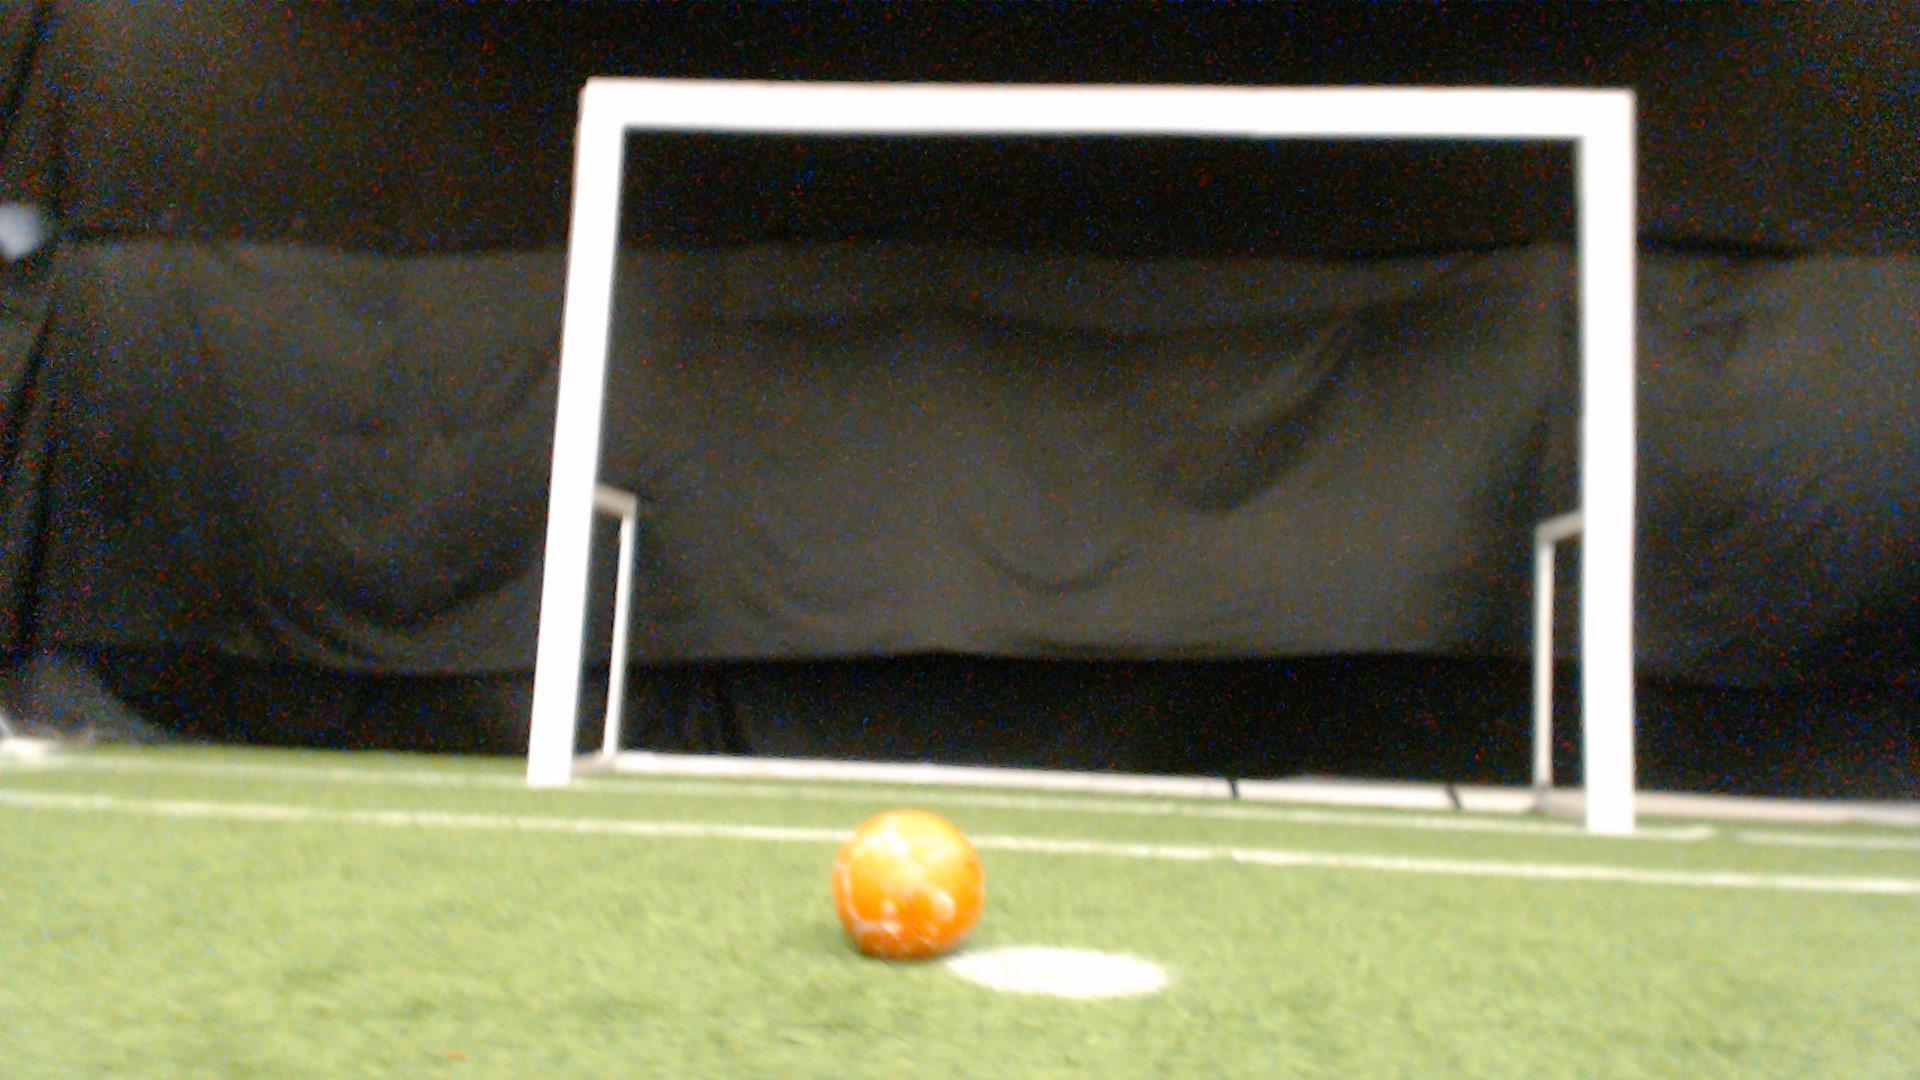bola: (818, 808, 1005, 971)
